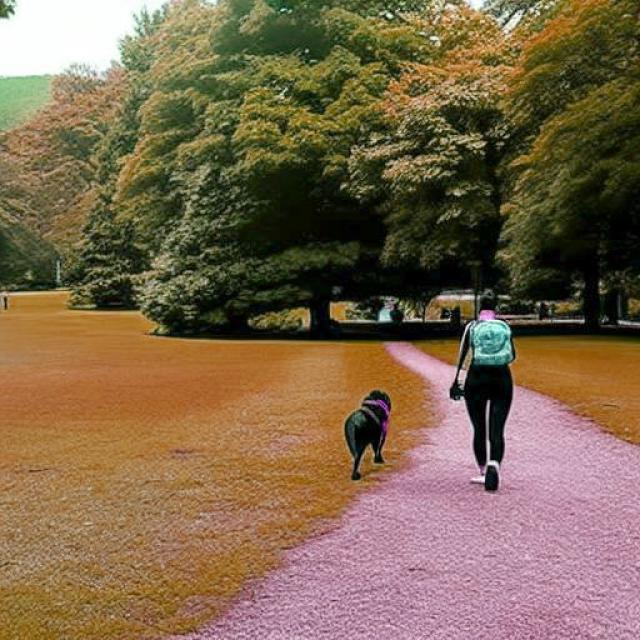Unleashed_Dog: (343, 390, 514, 482)
